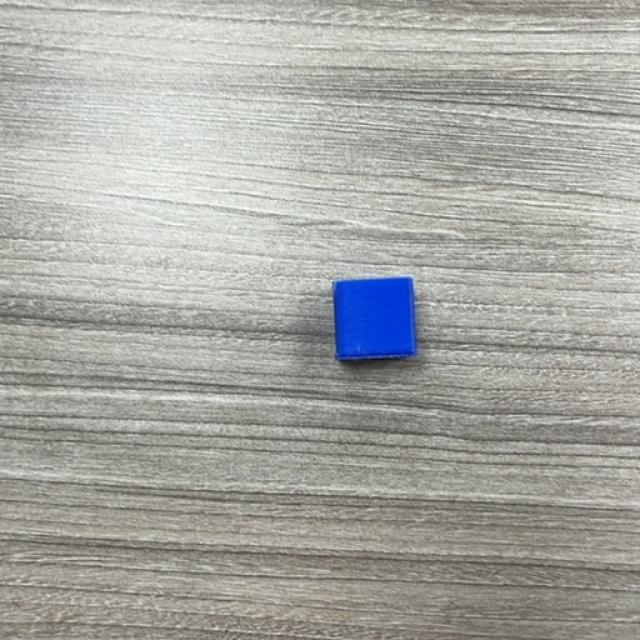Azul: (331, 278, 418, 364)
